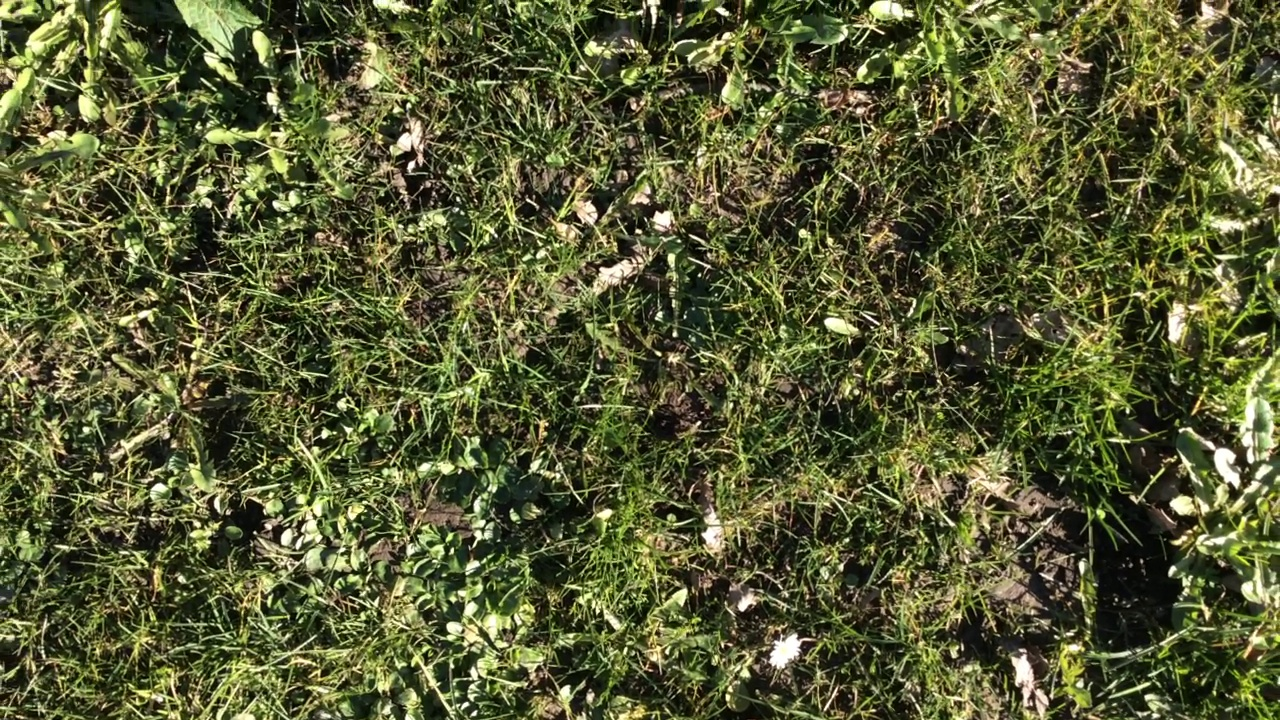rumex: (173, 1, 261, 57)
